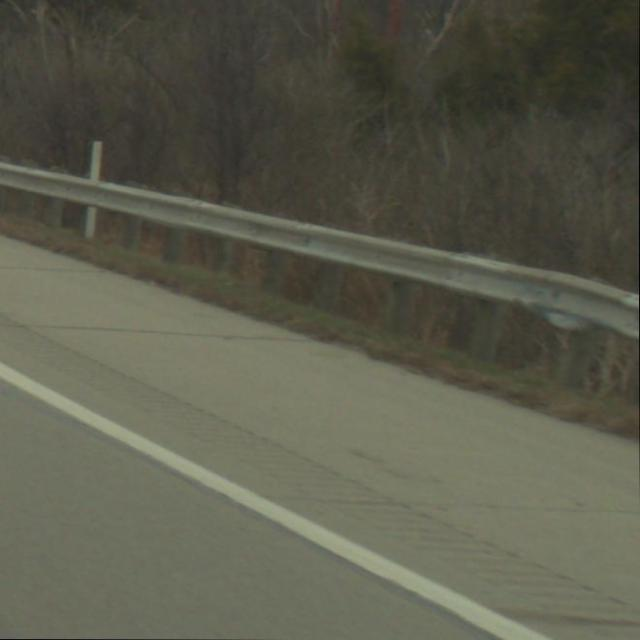Guard rail: (0, 159, 640, 405)
